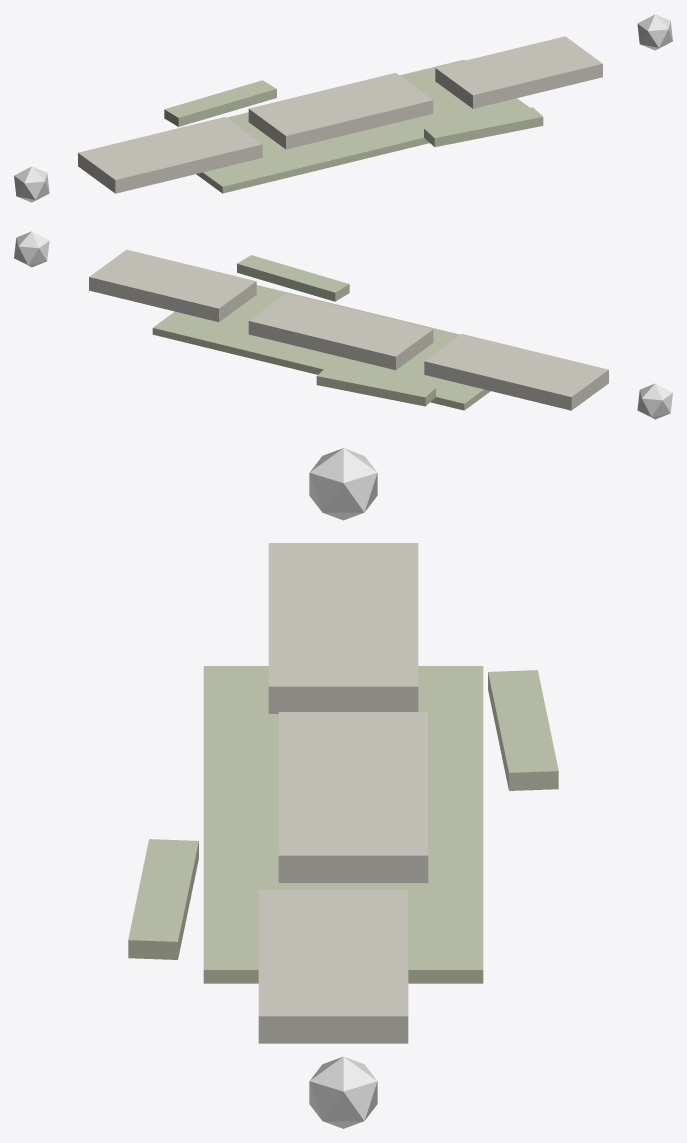
File: COASTAL_GRAVEL_PATH_001_LOD_GAMEPLAY.glb
3 views of the same model, one above another, from view 1: azimuth 30°, elevation 25°; view 2: azimuth 150°, elevation 25°; view 3: azimuth 270°, elevation 25° (orthographic). The views are drawn at different scales.
Visible parts, largest first — view 1: COASTAL_GRAVEL_PATH_001_LOD_GAMEPLAY_GROUND_SOCKET, COASTAL_GRAVEL_PATH_001_LOD_GAMEPLAY_STRAIGHT_B, COASTAL_GRAVEL_PATH_001_LOD_GAMEPLAY_STRAIGHT_A, COASTAL_GRAVEL_PATH_001_LOD_GAMEPLAY_STRAIGHT_C, COASTAL_GRAVEL_PATH_001_LOD_GAMEPLAY_EDGE_RIGHT_A, COASTAL_GRAVEL_PATH_001_LOD_GAMEPLAY_EDGE_LEFT_A, COASTAL_GRAVEL_PATH_001_LOD_GAMEPLAY_SNAP_IN, COASTAL_GRAVEL_PATH_001_LOD_GAMEPLAY_SNAP_OUT; view 2: COASTAL_GRAVEL_PATH_001_LOD_GAMEPLAY_GROUND_SOCKET, COASTAL_GRAVEL_PATH_001_LOD_GAMEPLAY_STRAIGHT_B, COASTAL_GRAVEL_PATH_001_LOD_GAMEPLAY_STRAIGHT_A, COASTAL_GRAVEL_PATH_001_LOD_GAMEPLAY_STRAIGHT_C, COASTAL_GRAVEL_PATH_001_LOD_GAMEPLAY_EDGE_LEFT_A, COASTAL_GRAVEL_PATH_001_LOD_GAMEPLAY_EDGE_RIGHT_A, COASTAL_GRAVEL_PATH_001_LOD_GAMEPLAY_SNAP_IN, COASTAL_GRAVEL_PATH_001_LOD_GAMEPLAY_SNAP_OUT; view 3: COASTAL_GRAVEL_PATH_001_LOD_GAMEPLAY_GROUND_SOCKET, COASTAL_GRAVEL_PATH_001_LOD_GAMEPLAY_STRAIGHT_B, COASTAL_GRAVEL_PATH_001_LOD_GAMEPLAY_STRAIGHT_A, COASTAL_GRAVEL_PATH_001_LOD_GAMEPLAY_STRAIGHT_C, COASTAL_GRAVEL_PATH_001_LOD_GAMEPLAY_EDGE_LEFT_A, COASTAL_GRAVEL_PATH_001_LOD_GAMEPLAY_EDGE_RIGHT_A, COASTAL_GRAVEL_PATH_001_LOD_GAMEPLAY_SNAP_IN, COASTAL_GRAVEL_PATH_001_LOD_GAMEPLAY_SNAP_OUT.
Part boxes in pixels (bbox=[...]): COASTAL_GRAVEL_PATH_001_LOD_GAMEPLAY_GROUND_SOCKET: bbox=[196, 59, 529, 193]; COASTAL_GRAVEL_PATH_001_LOD_GAMEPLAY_STRAIGHT_B: bbox=[248, 72, 433, 149]; COASTAL_GRAVEL_PATH_001_LOD_GAMEPLAY_STRAIGHT_A: bbox=[78, 117, 262, 193]; COASTAL_GRAVEL_PATH_001_LOD_GAMEPLAY_STRAIGHT_C: bbox=[435, 36, 602, 108]; COASTAL_GRAVEL_PATH_001_LOD_GAMEPLAY_EDGE_RIGHT_A: bbox=[424, 107, 543, 146]; COASTAL_GRAVEL_PATH_001_LOD_GAMEPLAY_EDGE_LEFT_A: bbox=[164, 80, 276, 126]; COASTAL_GRAVEL_PATH_001_LOD_GAMEPLAY_SNAP_IN: bbox=[14, 166, 49, 202]; COASTAL_GRAVEL_PATH_001_LOD_GAMEPLAY_SNAP_OUT: bbox=[637, 14, 672, 50]; COASTAL_GRAVEL_PATH_001_LOD_GAMEPLAY_GROUND_SOCKET: bbox=[152, 285, 490, 410]; COASTAL_GRAVEL_PATH_001_LOD_GAMEPLAY_STRAIGHT_B: bbox=[248, 293, 433, 370]; COASTAL_GRAVEL_PATH_001_LOD_GAMEPLAY_STRAIGHT_A: bbox=[424, 334, 608, 410]; COASTAL_GRAVEL_PATH_001_LOD_GAMEPLAY_STRAIGHT_C: bbox=[89, 249, 256, 322]; COASTAL_GRAVEL_PATH_001_LOD_GAMEPLAY_EDGE_LEFT_A: bbox=[316, 366, 435, 406]; COASTAL_GRAVEL_PATH_001_LOD_GAMEPLAY_EDGE_RIGHT_A: bbox=[237, 255, 349, 301]; COASTAL_GRAVEL_PATH_001_LOD_GAMEPLAY_SNAP_IN: bbox=[637, 383, 672, 419]; COASTAL_GRAVEL_PATH_001_LOD_GAMEPLAY_SNAP_OUT: bbox=[14, 231, 49, 267]; COASTAL_GRAVEL_PATH_001_LOD_GAMEPLAY_GROUND_SOCKET: bbox=[203, 666, 483, 983]; COASTAL_GRAVEL_PATH_001_LOD_GAMEPLAY_STRAIGHT_B: bbox=[278, 712, 428, 882]; COASTAL_GRAVEL_PATH_001_LOD_GAMEPLAY_STRAIGHT_A: bbox=[268, 543, 418, 713]; COASTAL_GRAVEL_PATH_001_LOD_GAMEPLAY_STRAIGHT_C: bbox=[258, 889, 408, 1043]; COASTAL_GRAVEL_PATH_001_LOD_GAMEPLAY_EDGE_LEFT_A: bbox=[488, 670, 558, 790]; COASTAL_GRAVEL_PATH_001_LOD_GAMEPLAY_EDGE_RIGHT_A: bbox=[128, 839, 198, 959]; COASTAL_GRAVEL_PATH_001_LOD_GAMEPLAY_SNAP_IN: bbox=[309, 448, 377, 520]; COASTAL_GRAVEL_PATH_001_LOD_GAMEPLAY_SNAP_OUT: bbox=[309, 1056, 377, 1128].
Bounding box in the file's own units: 1.51 × 0.1 × 0.4307.
